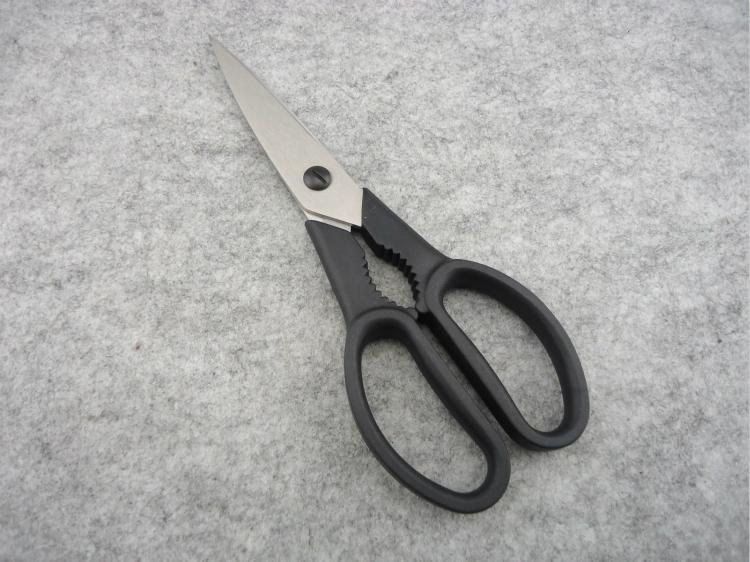scissor: (187, 29, 612, 532)
